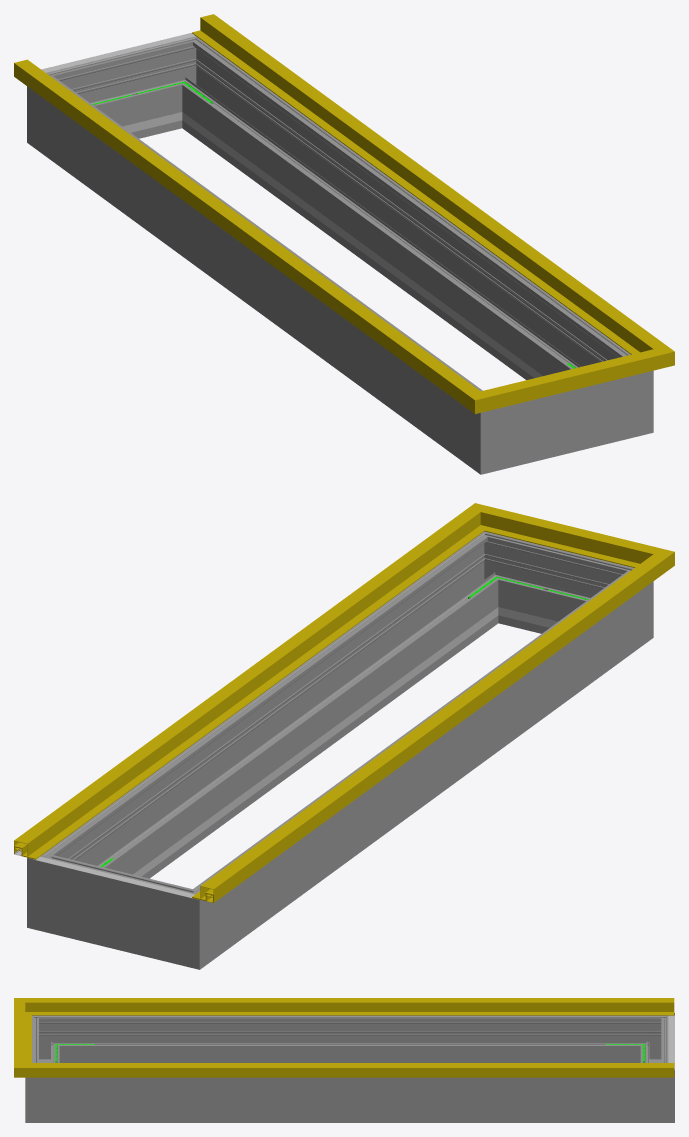
3 renders of one model, top to bottom at view 1: azimuth 30°, elevation 25°; view 2: azimuth 150°, elevation 25°; view 3: azimuth 270°, elevation 25°, orthographic. The views are drawn at different scales.
Parts seen in each view (by area): view 1: 3DGeom-297, 3DGeom-268, 3DGeom-128, 3DGeom-118, 3DGeom-276, 3DGeom-270, 3DGeom-298, 3DGeom-284, 3DGeom-290, 3DGeom-237, 3DGeom-278, 3DGeom-123 (+4 smaller); view 2: 3DGeom-297, 3DGeom-268, 3DGeom-128, 3DGeom-118, 3DGeom-278, 3DGeom-276, 3DGeom-298, 3DGeom-284, 3DGeom-290, 3DGeom-237, 3DGeom-123, 3DGeom-270 (+4 smaller); view 3: 3DGeom-268, 3DGeom-297, 3DGeom-118, 3DGeom-128, 3DGeom-284, 3DGeom-290, 3DGeom-278, 3DGeom-270, 3DGeom-120, 3DGeom-125, 3DGeom-123, 3DGeom-220 (+2 smaller).
Part boxes in pixels (x1,y1,x2,y2): 3DGeom-297: (187,54,616,379); 3DGeom-268: (56,90,467,453); 3DGeom-128: (192,14,645,349); 3DGeom-118: (14,59,459,392); 3DGeom-276: (81,46,173,138); 3DGeom-270: (452,380,530,474); 3DGeom-298: (530,383,603,462); 3DGeom-284: (154,36,220,131); 3DGeom-290: (603,344,653,444); 3DGeom-237: (210,132,542,377); 3DGeom-278: (27,64,100,163); 3DGeom-123: (517,358,624,401); 3DGeom-297: (64,549,493,878); 3DGeom-268: (213,585,624,948); 3DGeom-128: (14,524,467,859); 3DGeom-118: (192,569,645,902); 3DGeom-278: (150,875,228,969); 3DGeom-276: (77,863,158,957); 3DGeom-298: (506,541,598,633); 3DGeom-284: (27,839,85,939); 3DGeom-290: (460,531,525,626); 3DGeom-237: (133,627,470,876); 3DGeom-123: (512,515,624,562); 3DGeom-270: (579,559,653,658); 3DGeom-268: (66,1015,633,1062); 3DGeom-297: (66,1077,633,1122); 3DGeom-118: (55,998,674,1015); 3DGeom-128: (55,1063,674,1077); 3DGeom-284: (633,1055,674,1122); 3DGeom-290: (25,1055,66,1122); 3DGeom-278: (633,1012,674,1062); 3DGeom-270: (32,1015,66,1062); 3DGeom-120: (14,998,55,1024); 3DGeom-125: (14,1050,55,1077); 3DGeom-123: (14,1015,31,1059); 3DGeom-220: (668,1015,674,1070).
Size of the model in its own units: 0.6096 by 0.2434 by 2.44.
